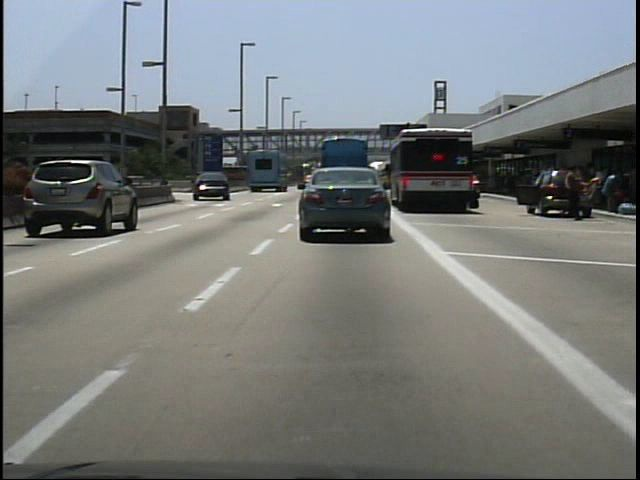person: (557, 162, 585, 223)
